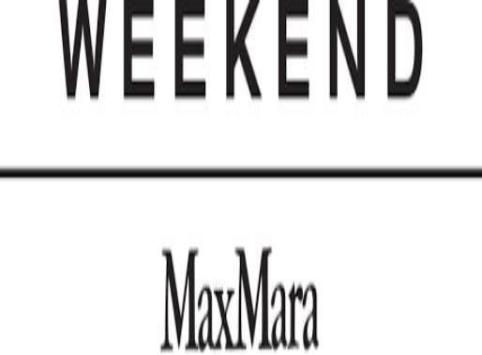MAX-MARA: (157, 244, 320, 352)
